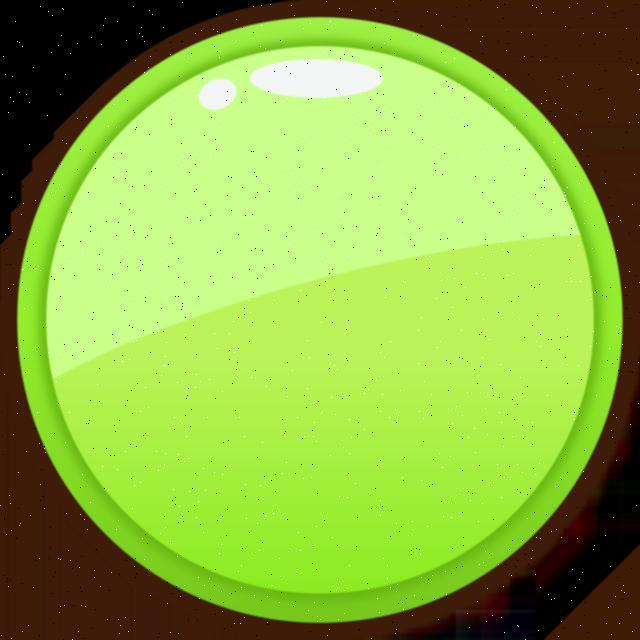Circle: (13, 17, 626, 640)
